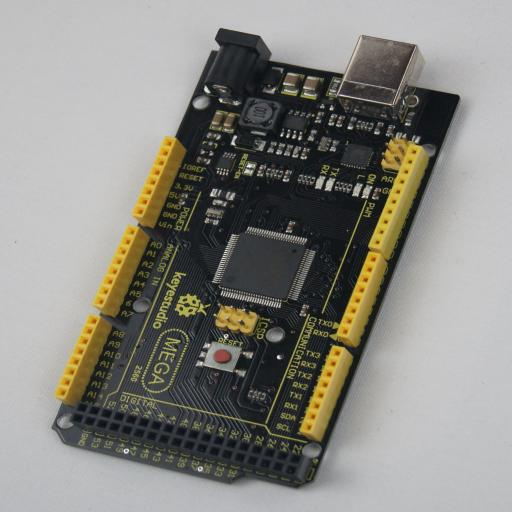Arduino Mega 2560 -Black and Yellow-: (52, 28, 460, 489)
